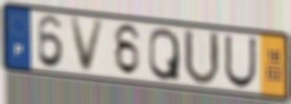6: (36, 13, 65, 71), (112, 22, 141, 78)
Q: (147, 26, 182, 83)
U: (182, 26, 223, 89), (223, 33, 258, 90)
V: (68, 17, 108, 75)
